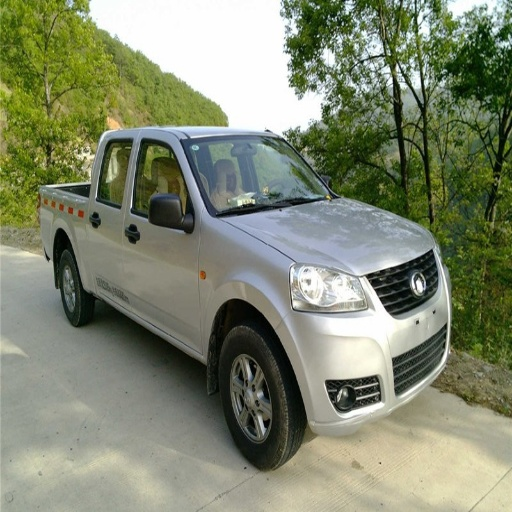front_bumper: (280, 251, 452, 433)
front_right_door: (124, 136, 201, 351)
front_right_light: (289, 265, 370, 314)
trunk: (39, 188, 74, 252)
